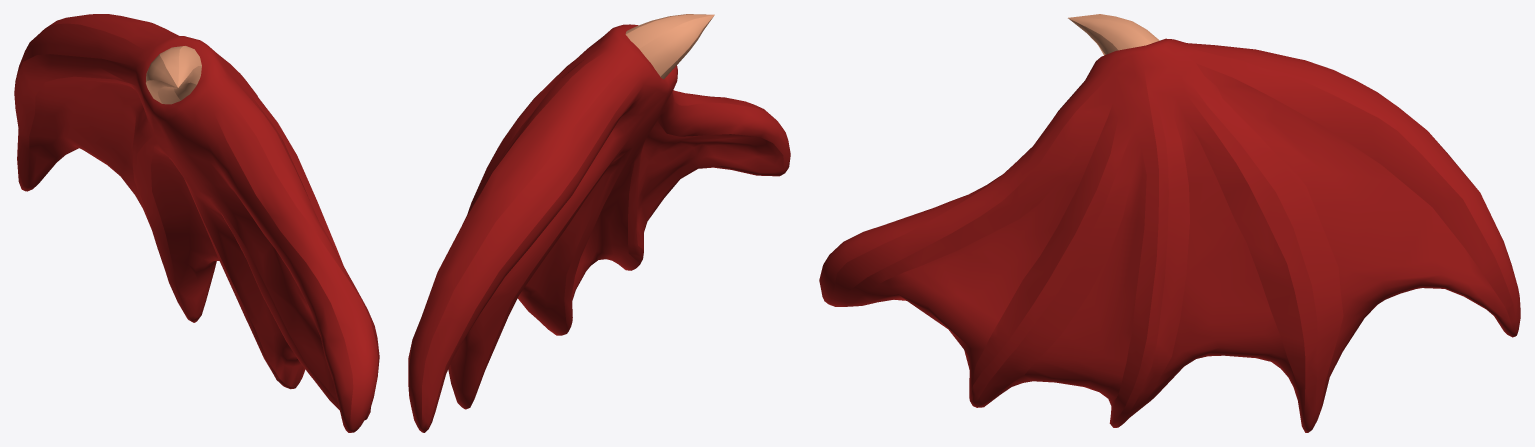
The model's file is DemonWing.fbx.
3 renders of one model, left to right at view 1: azimuth 30°, elevation 25°; view 2: azimuth 150°, elevation 25°; view 3: azimuth 270°, elevation 25°, orthographic. The views are drawn at different scales.
Parts seen in each view (by area): view 1: Demonic_Wing; view 2: Demonic_Wing; view 3: Demonic_Wing.
Boxes of the visible parts, box(x1,y1,x2,y2) form: Demonic_Wing: box(14, 14, 379, 432); Demonic_Wing: box(408, 14, 790, 432); Demonic_Wing: box(819, 14, 1520, 432).
Bounding box in the file's own units: 0.2864 × 0.5642 × 1.
